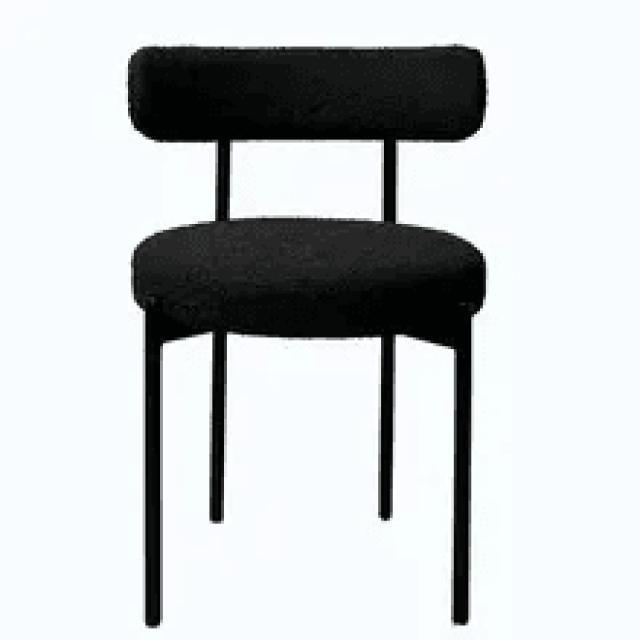chair: (123, 41, 491, 631), (131, 35, 491, 334)
